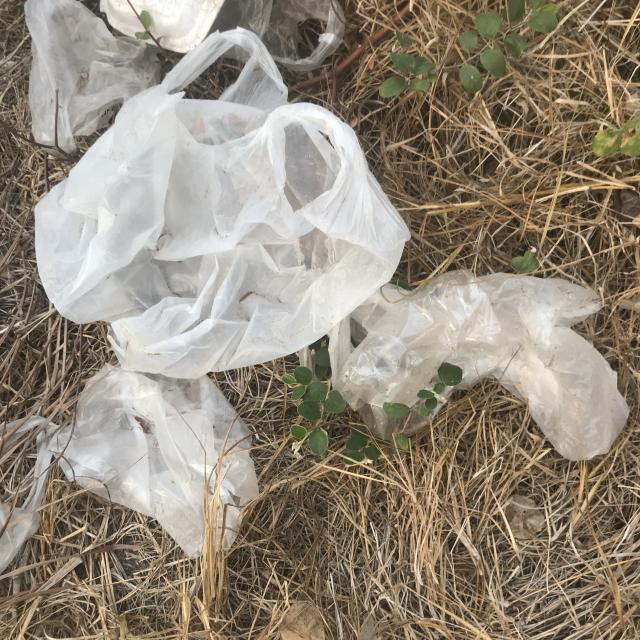Single-layer Plastic: (35, 29, 409, 378), (330, 271, 629, 460), (0, 365, 258, 572), (25, 0, 160, 154), (212, 0, 345, 71)
